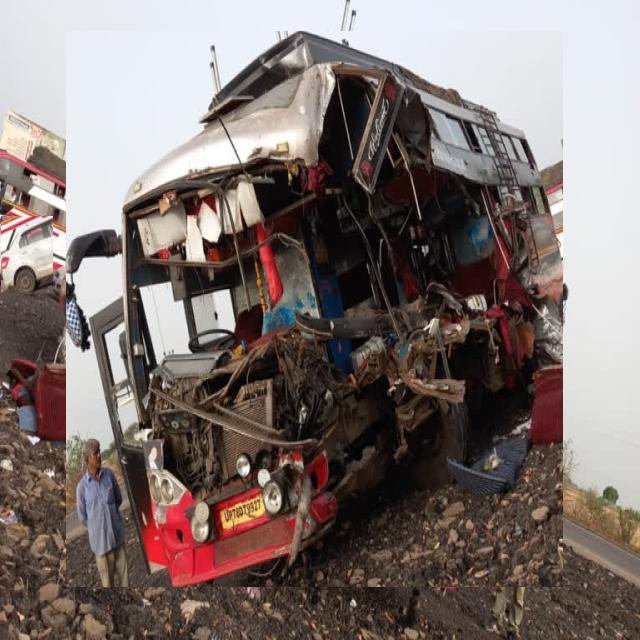accident: (66, 32, 562, 587)
bus: (0, 150, 82, 265)
car: (1, 216, 52, 293)
